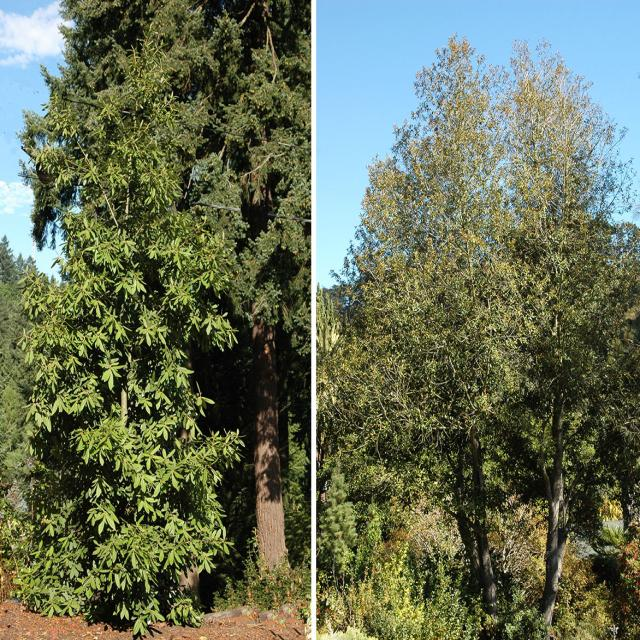Notholithocarpus densiflorus: (25, 19, 242, 622), (335, 32, 540, 600), (488, 38, 639, 619)
